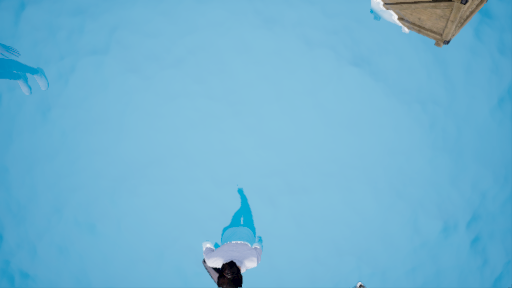person: (200, 187, 268, 288)
